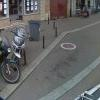Motorcycle: (1, 27, 29, 82)
